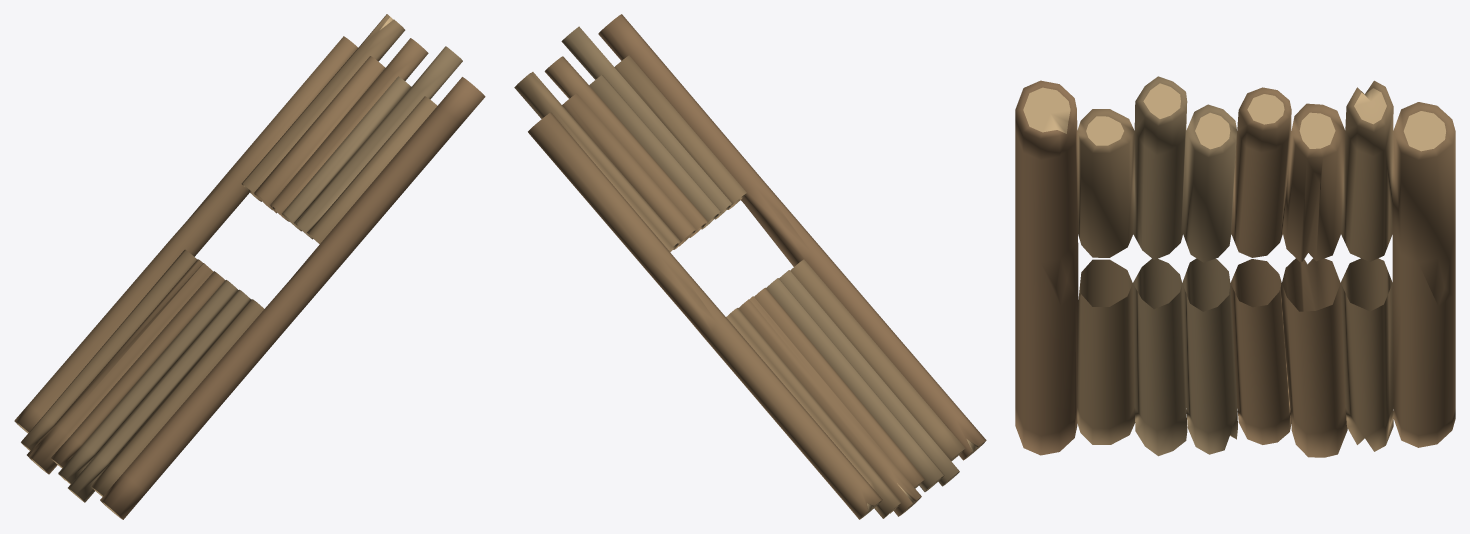
Rendered from rpgpp_ag_roof_01d_9x4x3_half.fbx.
The picture shows the model from 3 angles, left to right: view 1: azimuth 30°, elevation 25°; view 2: azimuth 150°, elevation 25°; view 3: azimuth 270°, elevation 25°; orthographic projection. The views are drawn at different scales.
Parts seen in each view (by area): view 1: rpgpp_ag_roof_01d_9x4x3_half; view 2: rpgpp_ag_roof_01d_9x4x3_half; view 3: rpgpp_ag_roof_01d_9x4x3_half.
Part boxes in pixels (left/top/right/bottom): rpgpp_ag_roof_01d_9x4x3_half: left=14, top=14, right=485, bottom=519; rpgpp_ag_roof_01d_9x4x3_half: left=514, top=14, right=986, bottom=519; rpgpp_ag_roof_01d_9x4x3_half: left=1015, top=76, right=1455, bottom=457.
Size of the model in its own units: 6.18 by 5.52 by 3.
